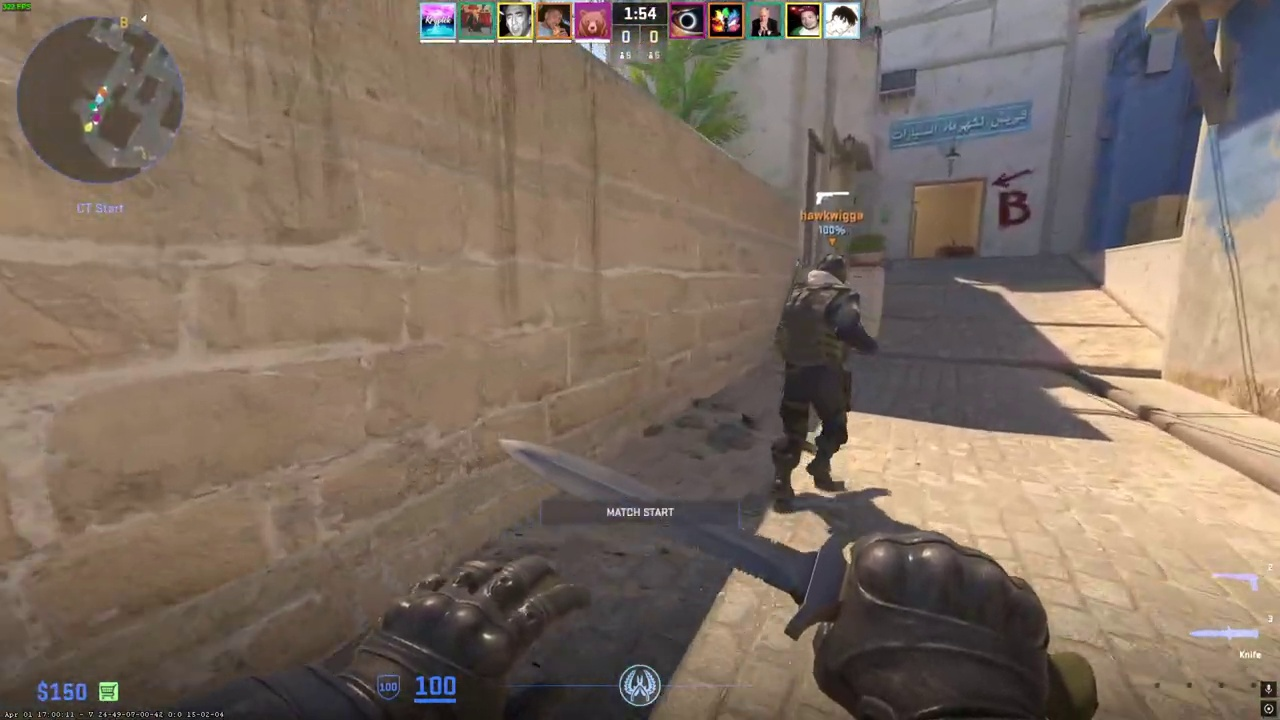CT: (770, 252, 868, 510)
